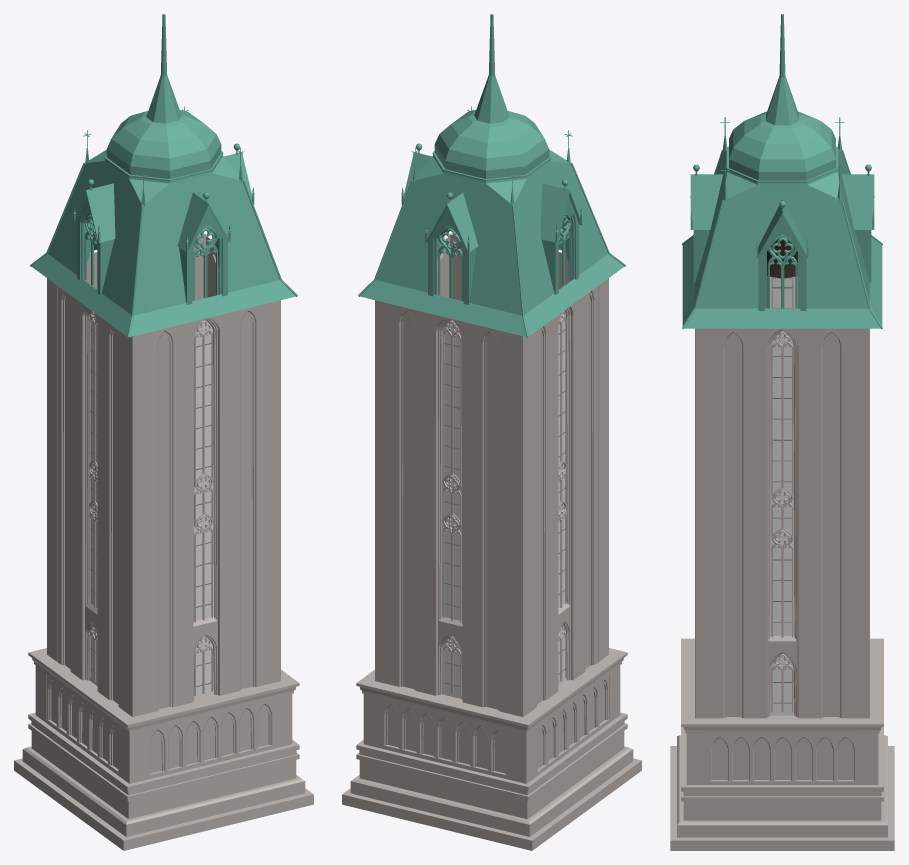
The model's file is tower1_3.fbx.
3 renders of one model, left to right at view 1: azimuth 30°, elevation 25°; view 2: azimuth 150°, elevation 25°; view 3: azimuth 270°, elevation 25°, orthographic. The views are drawn at different scales.
Visible parts, largest first — view 1: Unity_Export_Mesh.002; view 2: Unity_Export_Mesh.002; view 3: Unity_Export_Mesh.002.
Boxes of the visible parts, <box> form: Unity_Export_Mesh.002: <box>14,14,313,850</box>; Unity_Export_Mesh.002: <box>342,14,641,850</box>; Unity_Export_Mesh.002: <box>670,14,894,850</box>.
Size of the model in its own units: 92.26 by 358 by 92.26.
